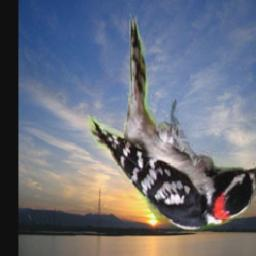Woodpecker: (85, 13, 256, 232)
